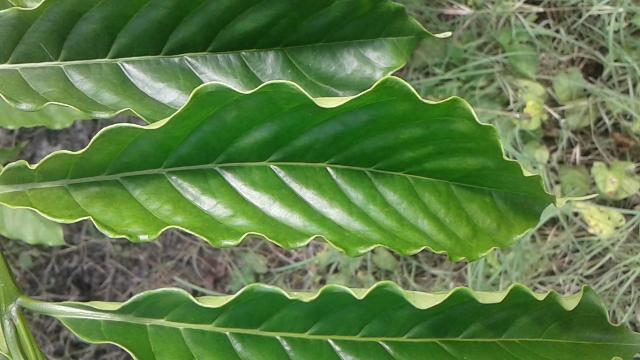healthy: (0, 76, 596, 261)
